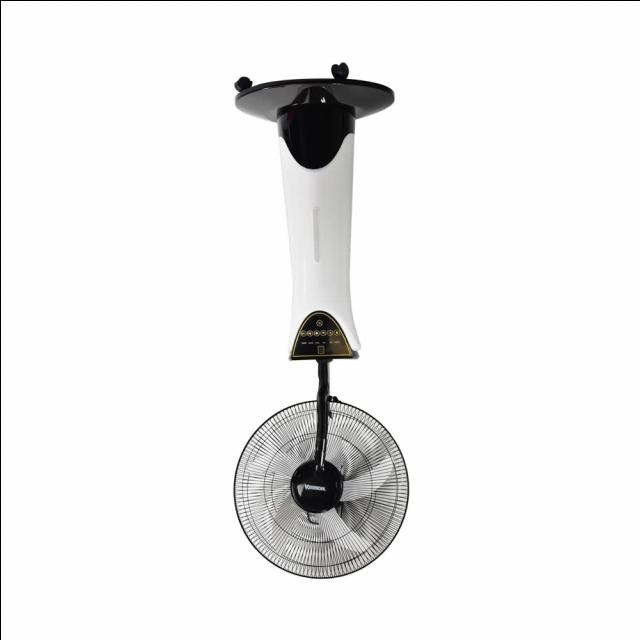fan: (231, 58, 410, 584)
